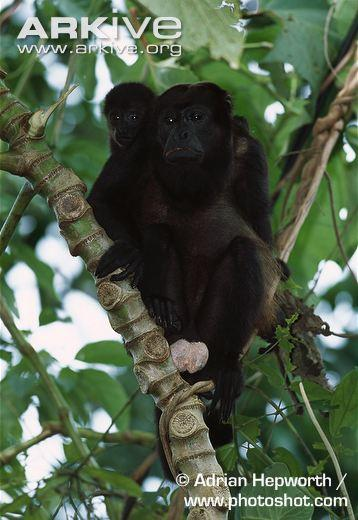monkey: (129, 83, 286, 441)
